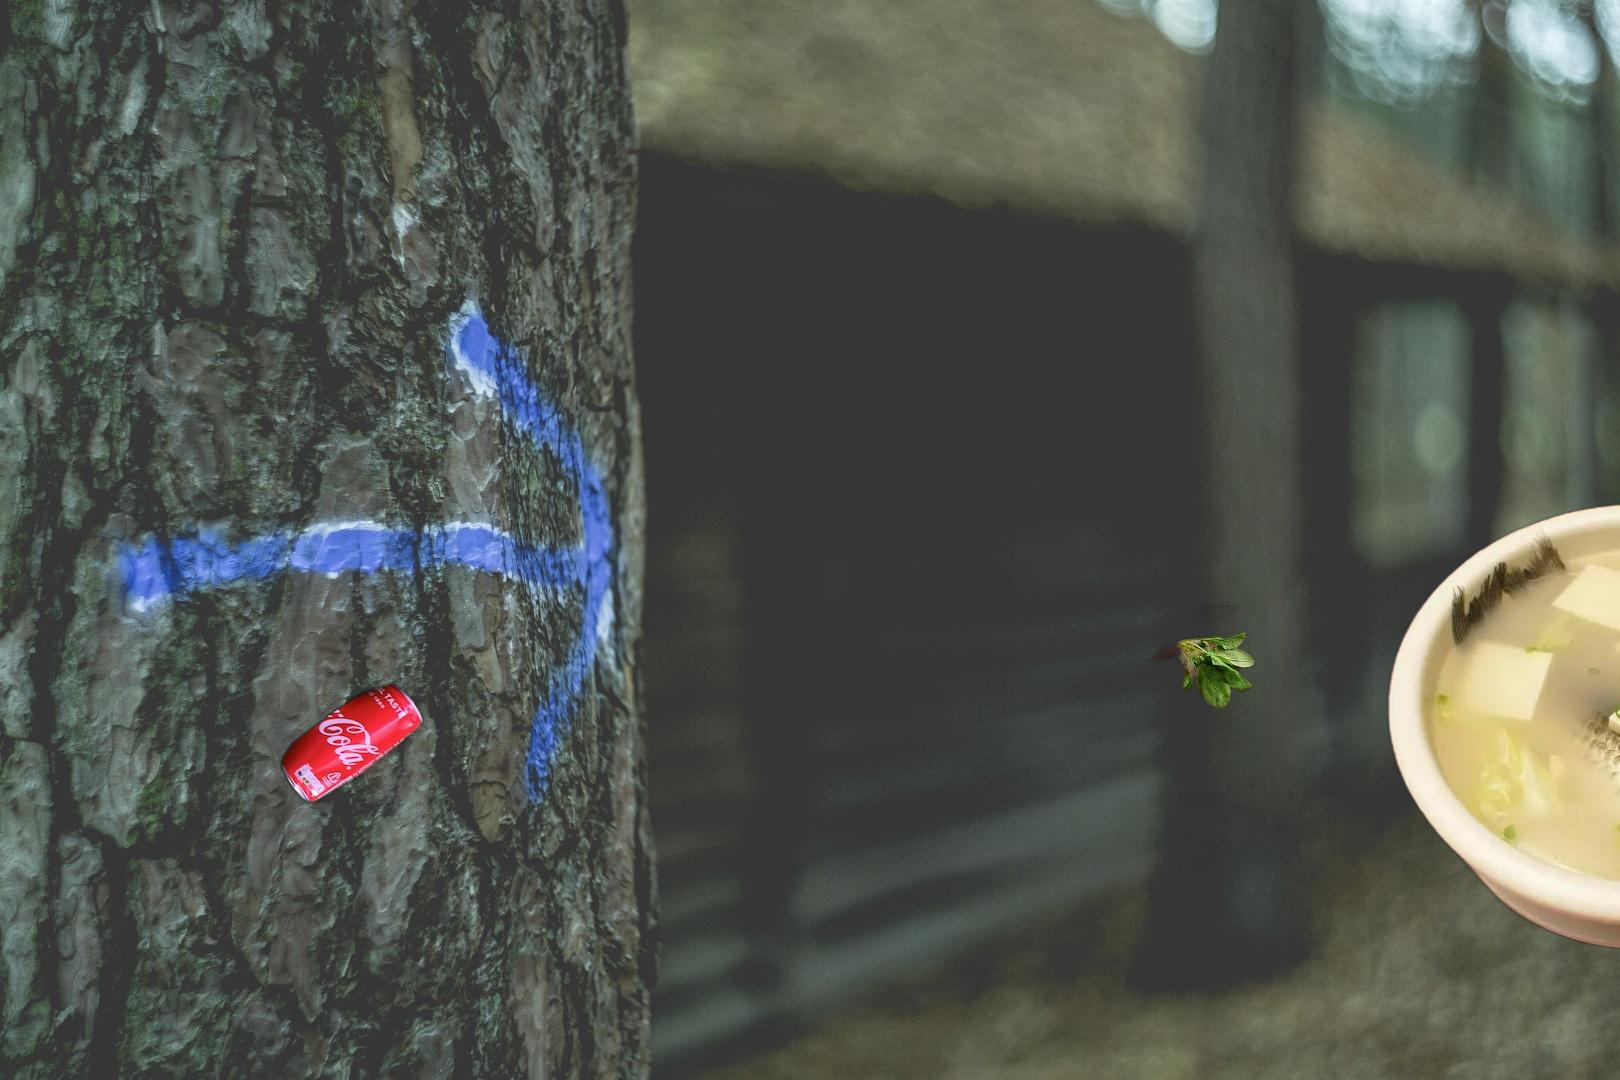biological: (1383, 499, 1620, 953), (1140, 605, 1256, 712)
metal-cans: (1178, 792, 1620, 1080), (276, 677, 428, 809)
